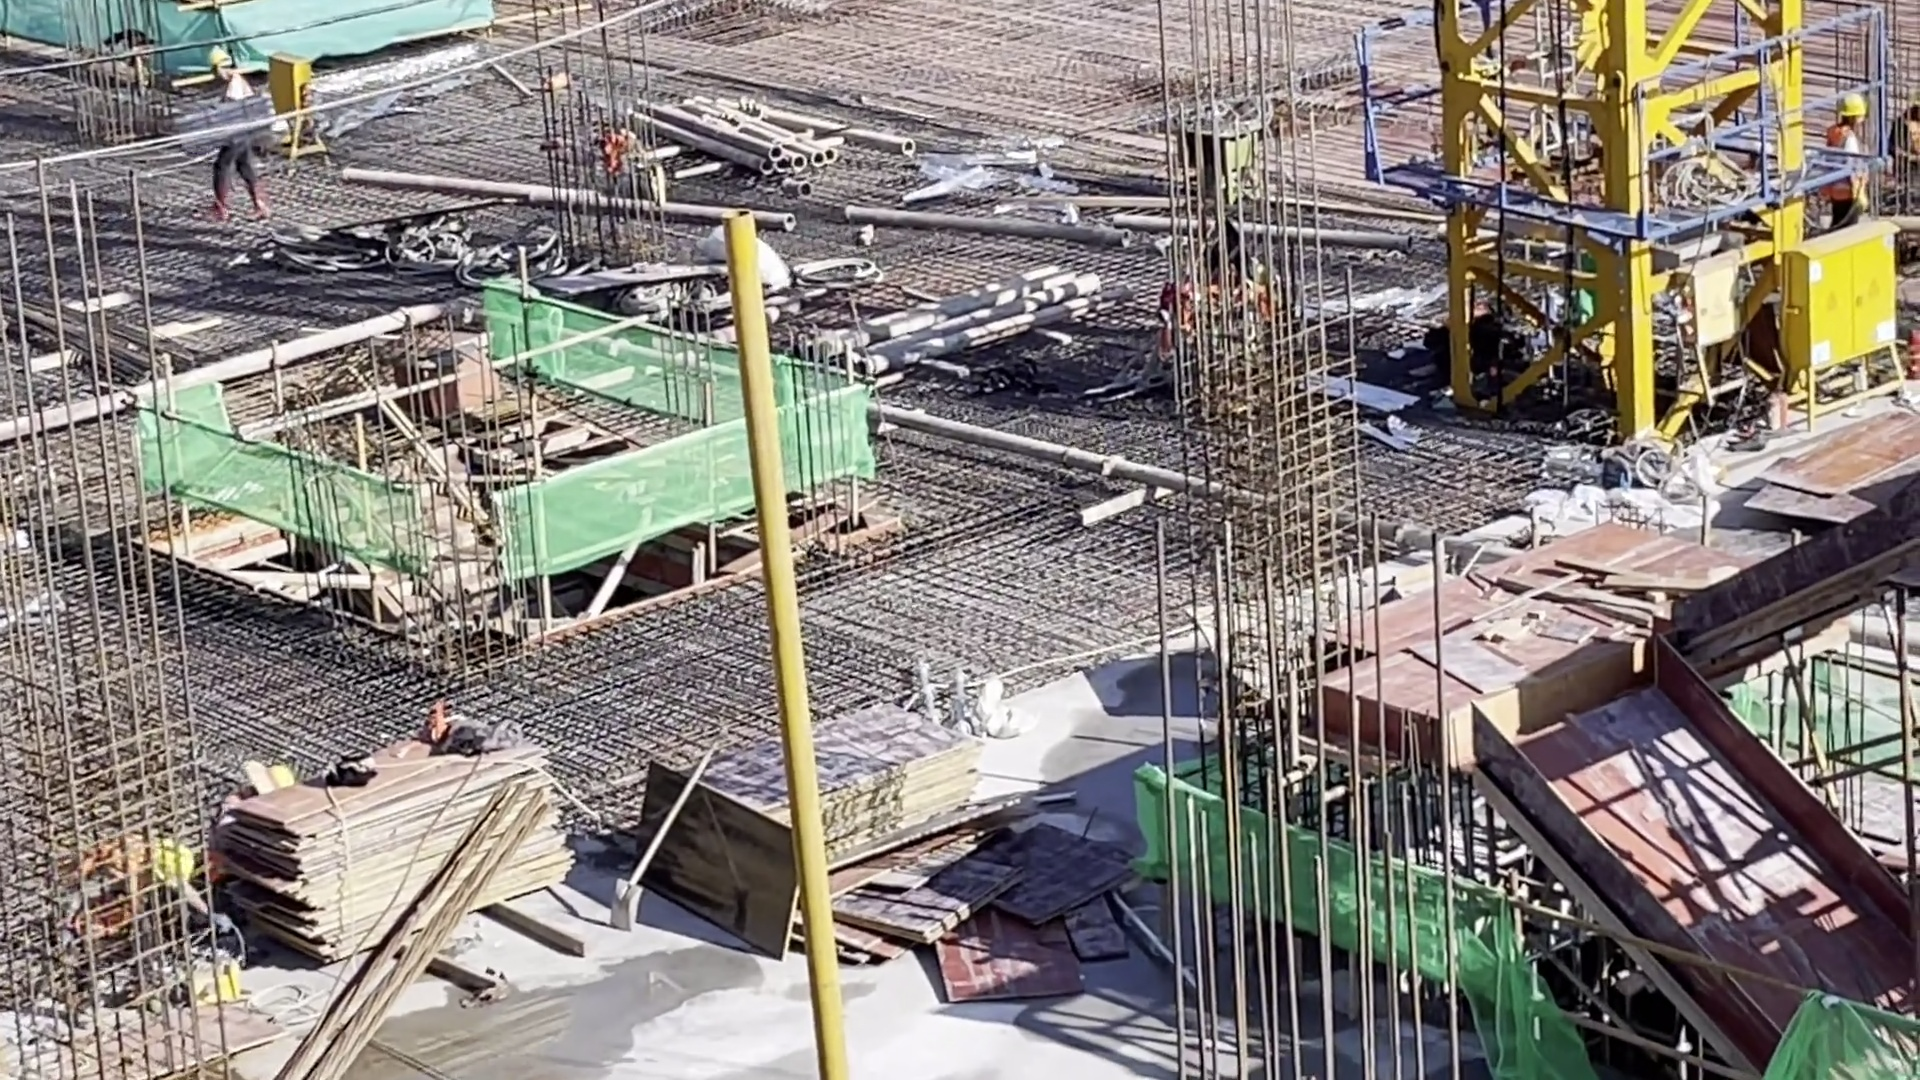board: (634, 673, 1065, 982), (232, 728, 599, 1007)
ebox: (1775, 235, 1920, 376)
helmet: (149, 828, 204, 902), (1837, 92, 1870, 123), (205, 39, 229, 72)
person: (63, 837, 215, 952), (200, 48, 284, 211), (1823, 92, 1873, 214)
scaffold: (636, 70, 932, 175)
vest: (1818, 125, 1873, 211)
